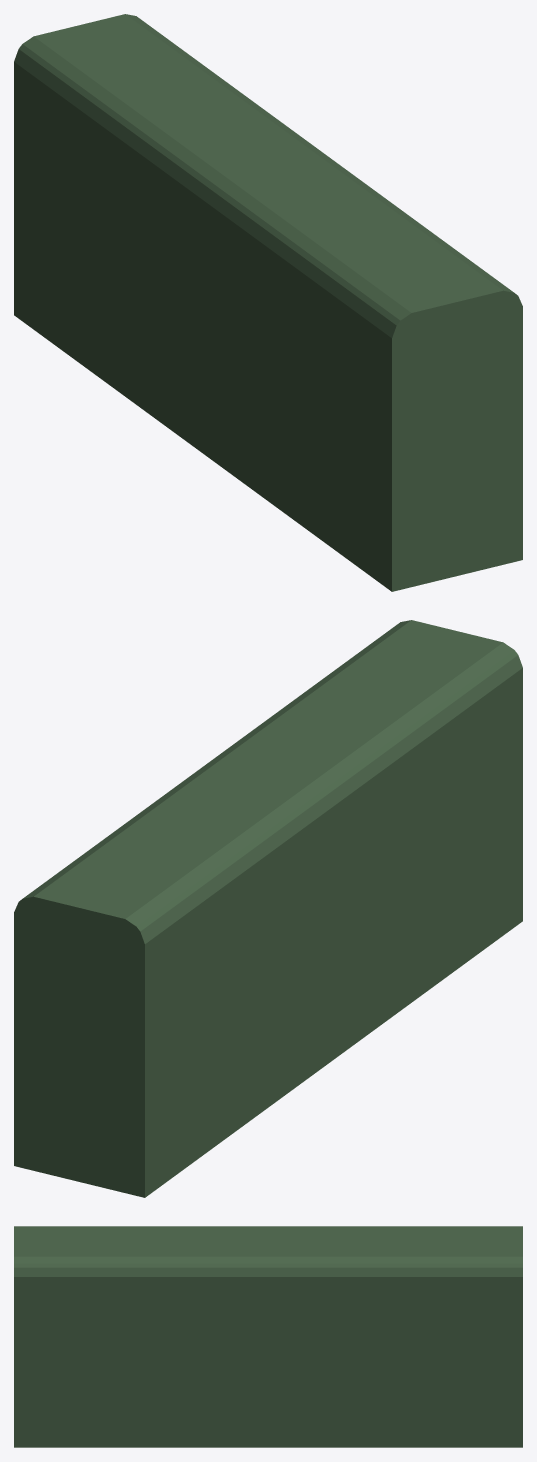
Rendered from Hedge_1x5.fbx.
The picture shows the model from 3 angles, top to bottom: view 1: azimuth 30°, elevation 25°; view 2: azimuth 150°, elevation 25°; view 3: azimuth 270°, elevation 25°; orthographic projection. The views are drawn at different scales.
Visible parts, largest first — view 1: Hedge_1x5; view 2: Hedge_1x5; view 3: Hedge_1x5.
Part boxes in pixels (x1=…): Hedge_1x5: x1=14, y1=14, x2=522, y2=591; Hedge_1x5: x1=14, y1=620, x2=522, y2=1197; Hedge_1x5: x1=14, y1=1226, x2=522, y2=1447.
Size of the model in its own units: 100 by 200 by 500.
